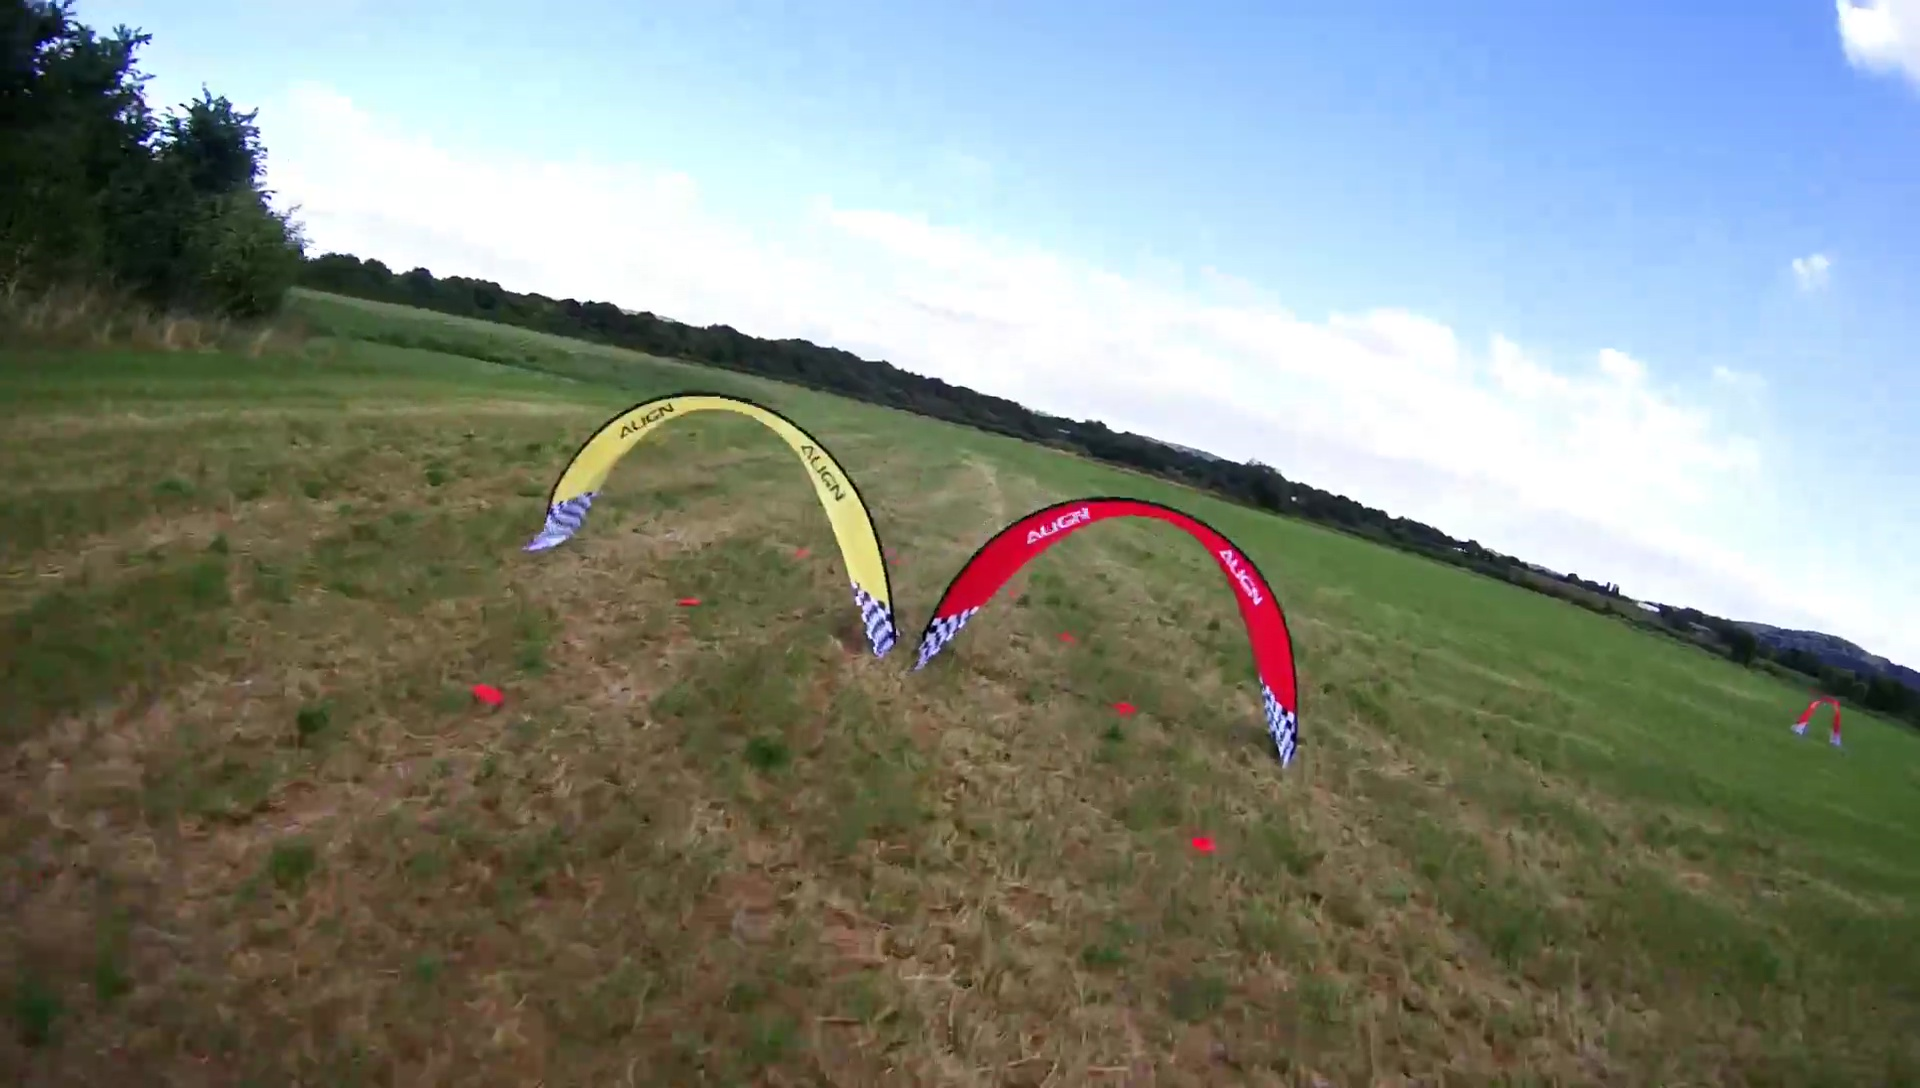gate: (909, 491, 1300, 768), (534, 393, 901, 658), (1789, 696, 1846, 748)
